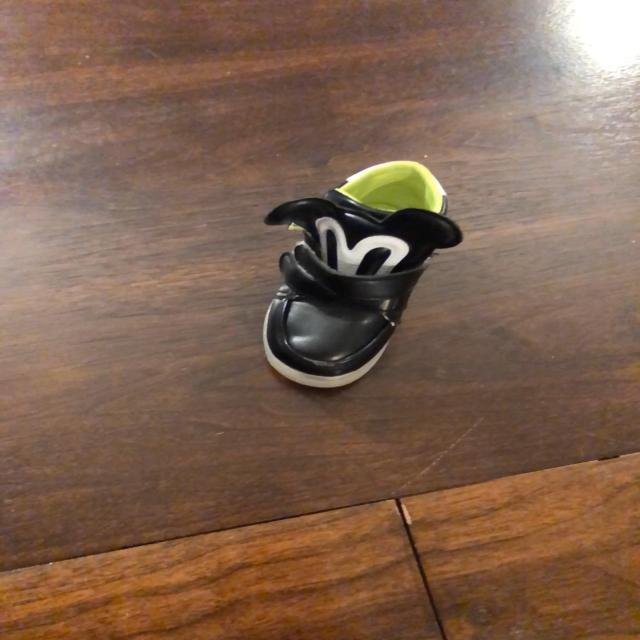shoe: (262, 161, 463, 388)
